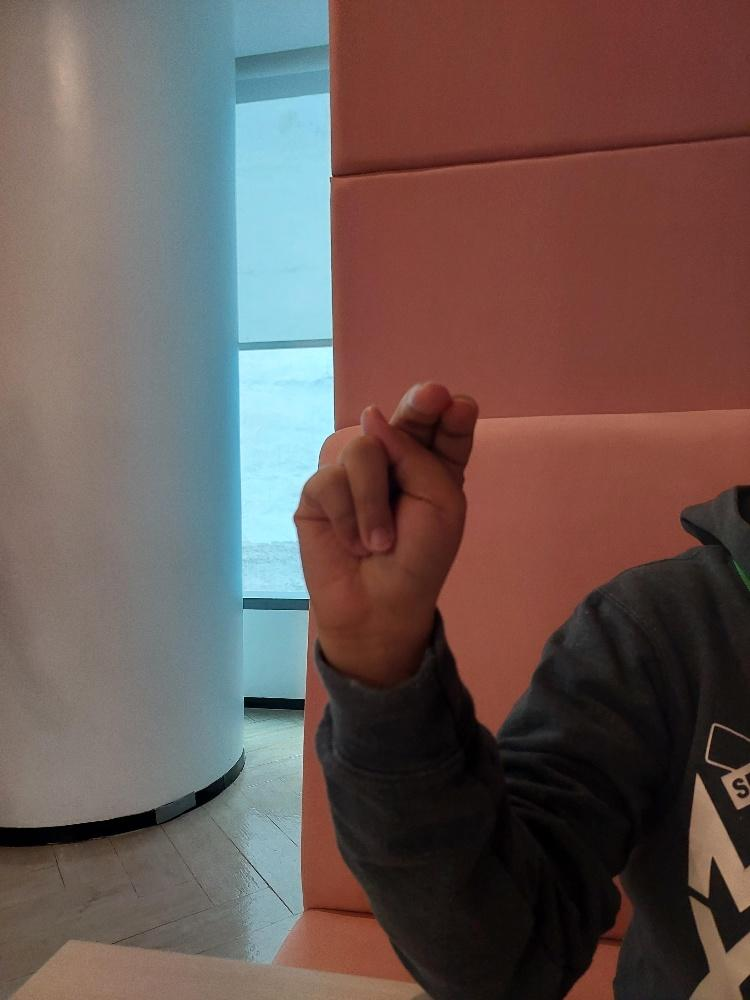n: (287, 370, 484, 667)
